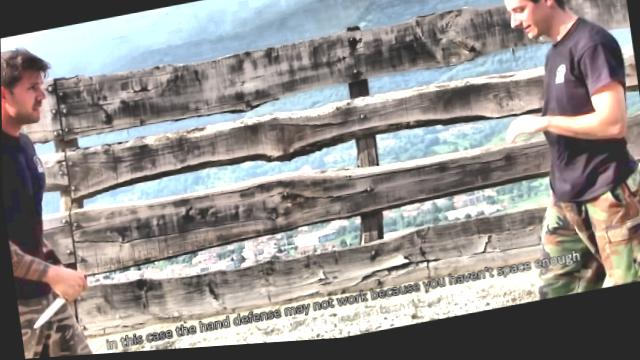knife: (22, 270, 93, 331)
